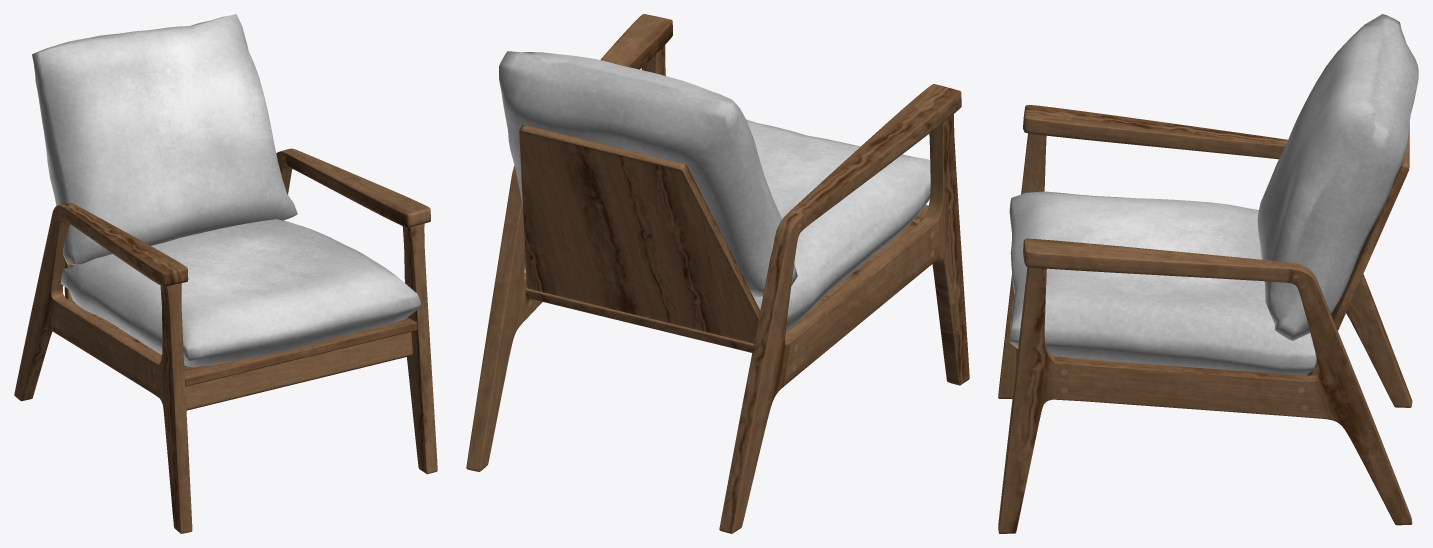
File: chair-d.glb
The picture shows the model from 3 angles, left to right: view 1: azimuth 30°, elevation 25°; view 2: azimuth 150°, elevation 25°; view 3: azimuth 270°, elevation 25°; orthographic projection. The views are drawn at different scales.
Visible parts, largest first — view 1: modern_arm_chair_01; view 2: modern_arm_chair_01; view 3: modern_arm_chair_01.
Boxes of the visible parts, bbox=[...] form: modern_arm_chair_01: bbox=[14, 14, 437, 533]; modern_arm_chair_01: bbox=[466, 14, 969, 533]; modern_arm_chair_01: bbox=[998, 14, 1418, 533].
Size of the model in its own units: 0.8203 by 1.02 by 0.9865.
2 materials, 2 textured.
